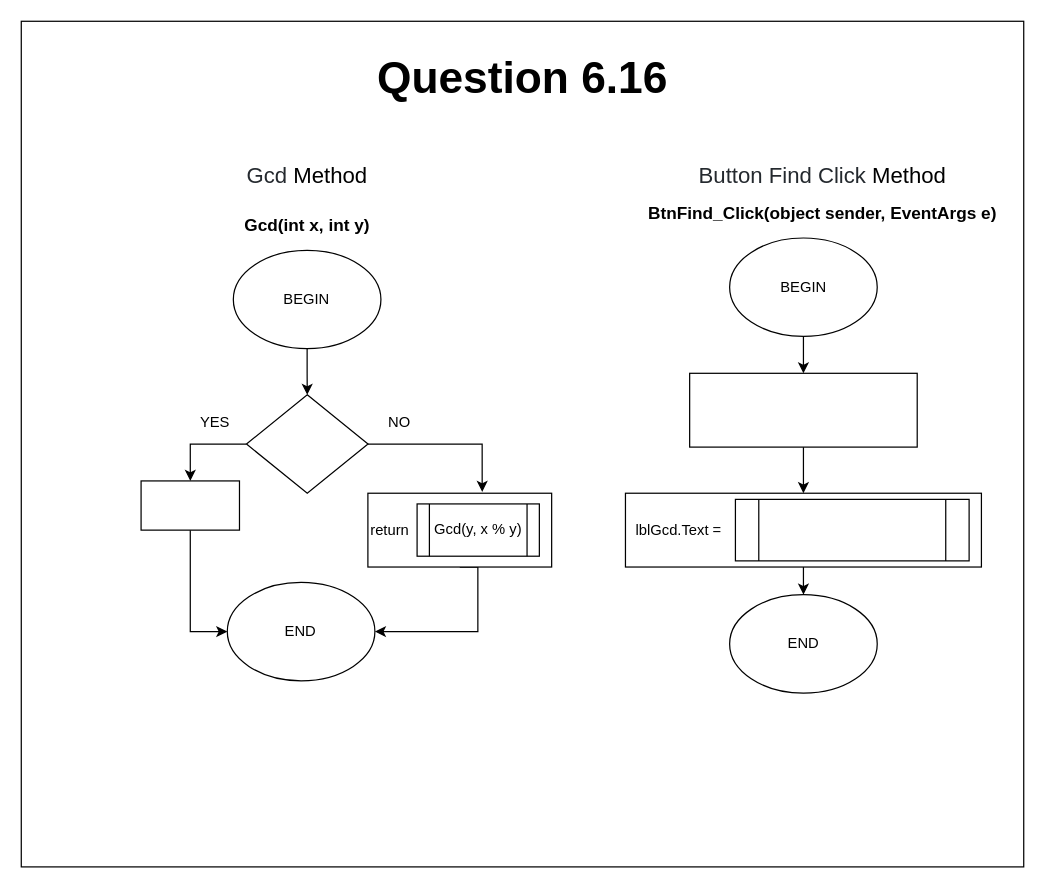
The diagram is 1046 pixels wide and 889 high, and some of its shapes have lost their labels. The centre of each missing label's shape, as x and y in pixels:
"declare and initialize firstNum from tbFirstNum, secondNum from tbSecondNum" belongs at point (802, 409).
"Gcd(firstNum, secondNum)" belongs at point (851, 529).
"return x" belongs at point (189, 505).
"y==0" belongs at point (306, 443).
